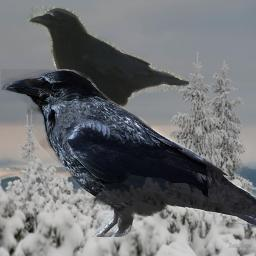Crow: (1, 69, 256, 237), (24, 4, 189, 129)
